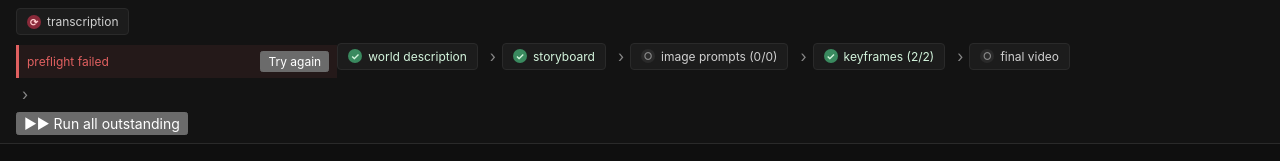
Test case: PipelinePanel › Try again optimistically dismisses the failed banner before the next poll
expect the message "preflight failed Try again" is shown: met, box 16,45 -> 337,78
Click the button "Try again" at [295, 62], box 260,51 -> 329,72
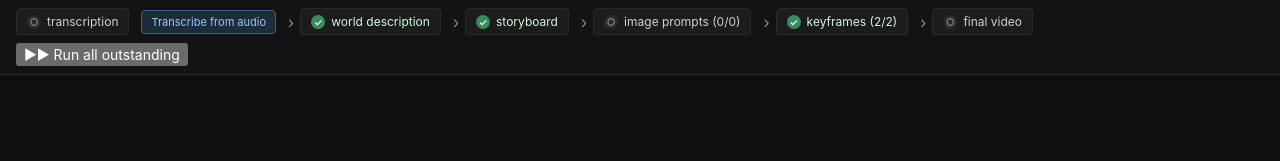
expect the message "preflight failed Try again" is gone: met
